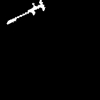double_crochet: (7, 0, 44, 23)
